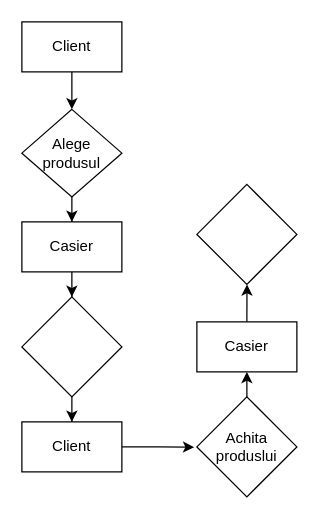
Some shapes in this 319 by 519 pixel diagram are drawn without their labels. The centre of each missing label's shape, as x and y in pixels:
Elibereaza bon: point (246, 233)
Scaneaza produsul: point (71, 346)
